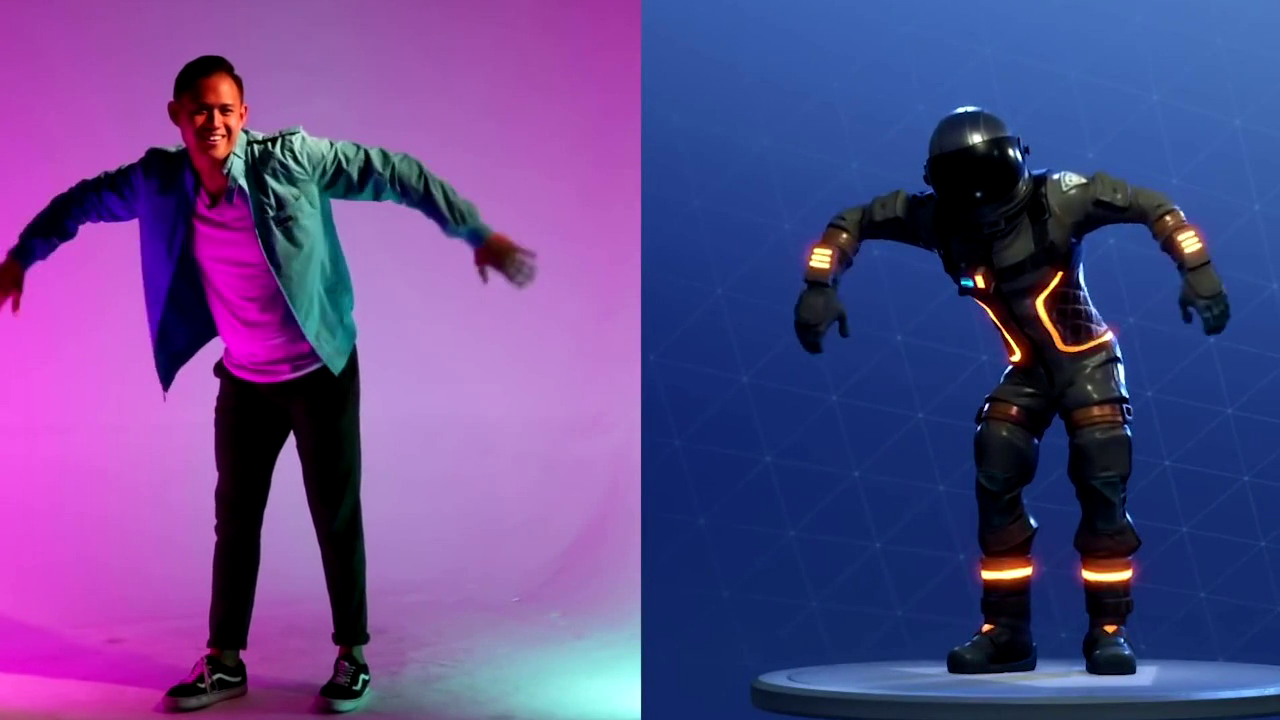Head: (158, 42, 257, 156)
Hip: (183, 341, 396, 441)
LeftAnkle: (302, 622, 395, 717)
LeftElbow: (372, 134, 434, 221)
LeftKnee: (303, 477, 388, 556)
LeftShoulder: (264, 119, 352, 214)
LeftWrist: (456, 201, 552, 309)
RightAnkle: (157, 637, 268, 717)
RightElbow: (20, 175, 108, 257)
RightKnee: (182, 495, 279, 585)
RightShoulder: (118, 135, 199, 221)
Torso: (162, 150, 358, 361)
